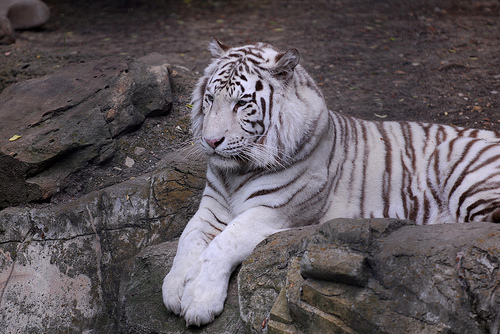Tigre: (169, 37, 476, 288)
